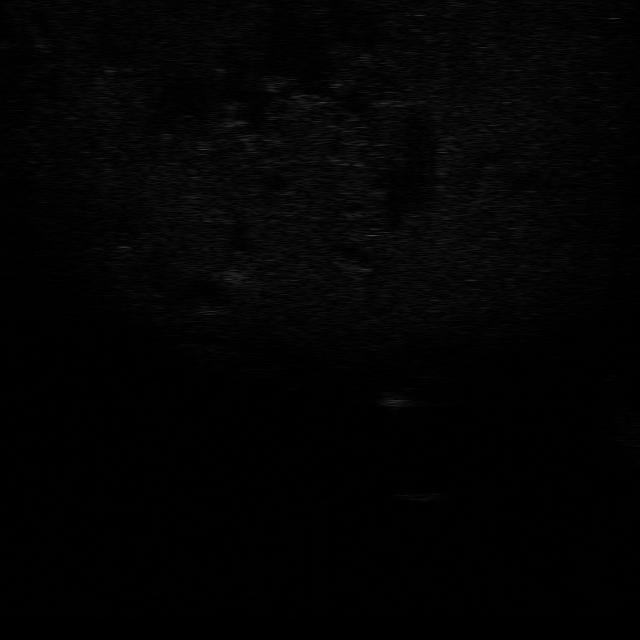cube: (395, 484, 441, 504)
square cage: (373, 387, 418, 408)
